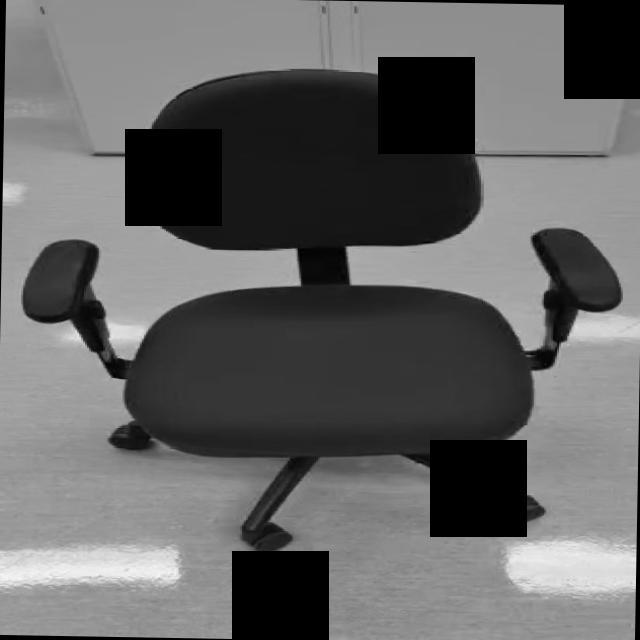chair: (18, 64, 624, 558)
